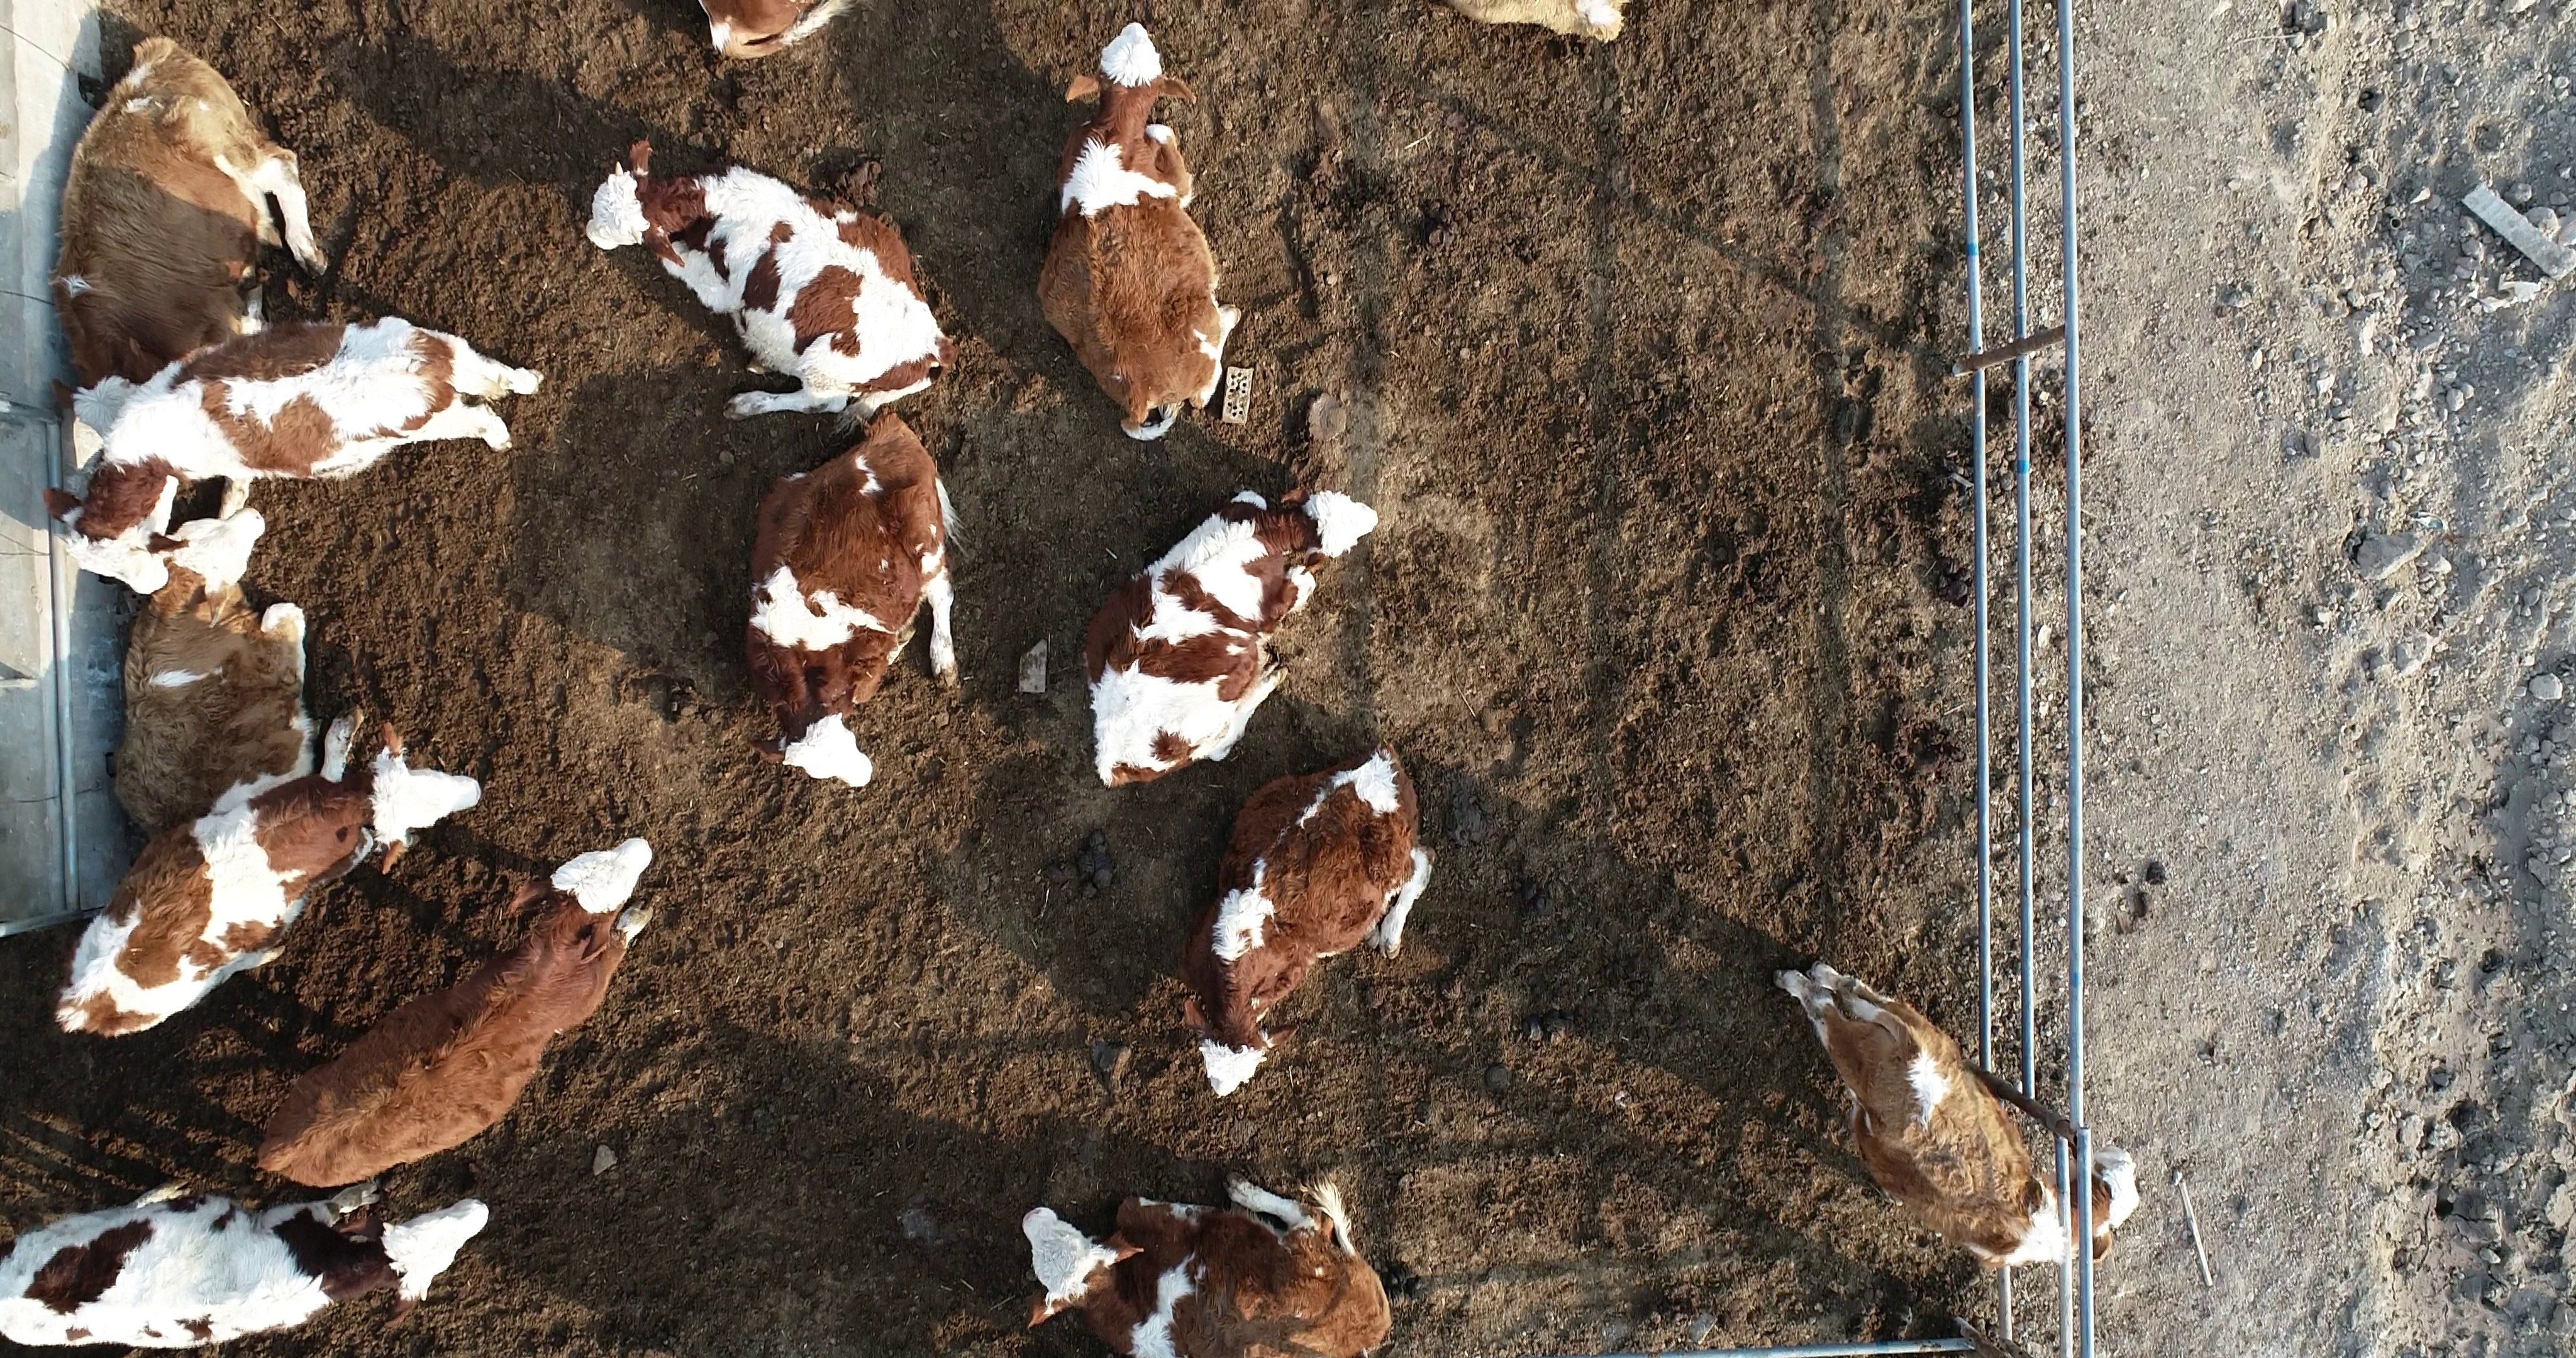cattle: (250, 835, 666, 1193), (37, 315, 549, 598), (48, 712, 486, 1041), (1767, 954, 2147, 1271), (583, 135, 964, 438), (1170, 734, 1441, 1106), (1077, 484, 1385, 794), (1032, 19, 1252, 436), (741, 409, 971, 796), (2, 1172, 496, 1351)
